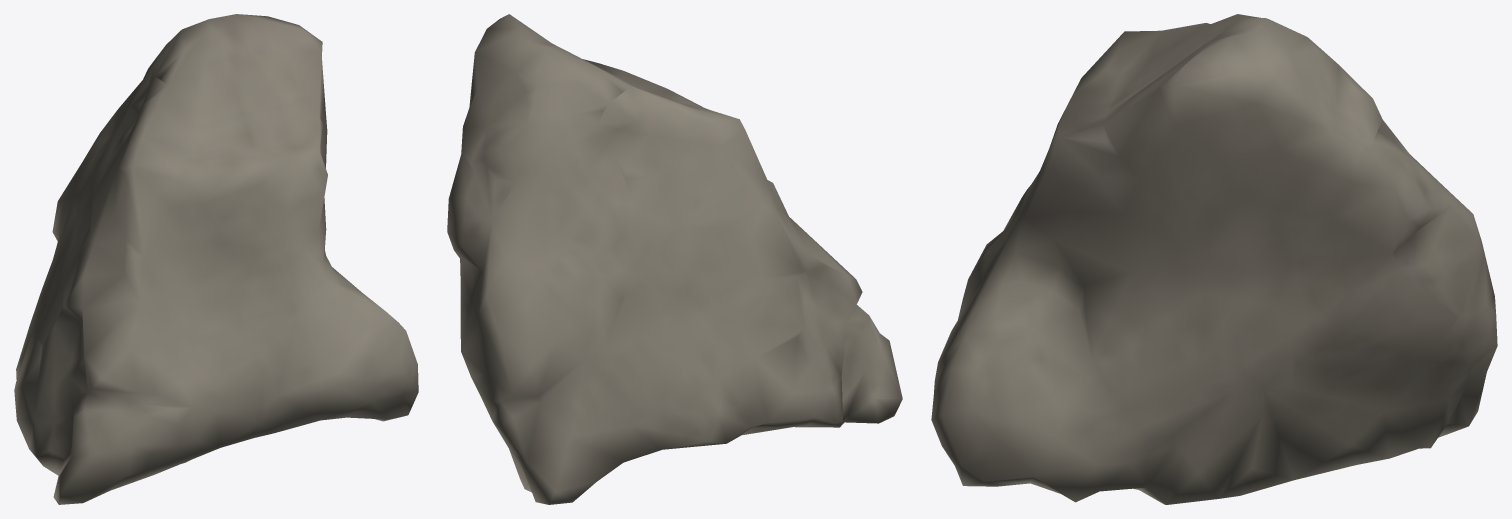
The model's file is ph_moonrock_5.glb.
The picture shows the model from 3 angles, left to right: view 1: azimuth 30°, elevation 25°; view 2: azimuth 150°, elevation 25°; view 3: azimuth 270°, elevation 25°; orthographic projection. The views are drawn at different scales.
Visible parts, largest first — view 1: ph_moonrock_5_lod1; view 2: ph_moonrock_5_lod1; view 3: ph_moonrock_5_lod1.
Part boxes in pixels (x1,y1,x2,y2): ph_moonrock_5_lod1: (14, 14, 418, 504); ph_moonrock_5_lod1: (447, 14, 902, 504); ph_moonrock_5_lod1: (931, 14, 1497, 504).
Bounding box in the file's own units: 0.0717 × 0.0734 × 0.0812.
1 material, 1 textured.
